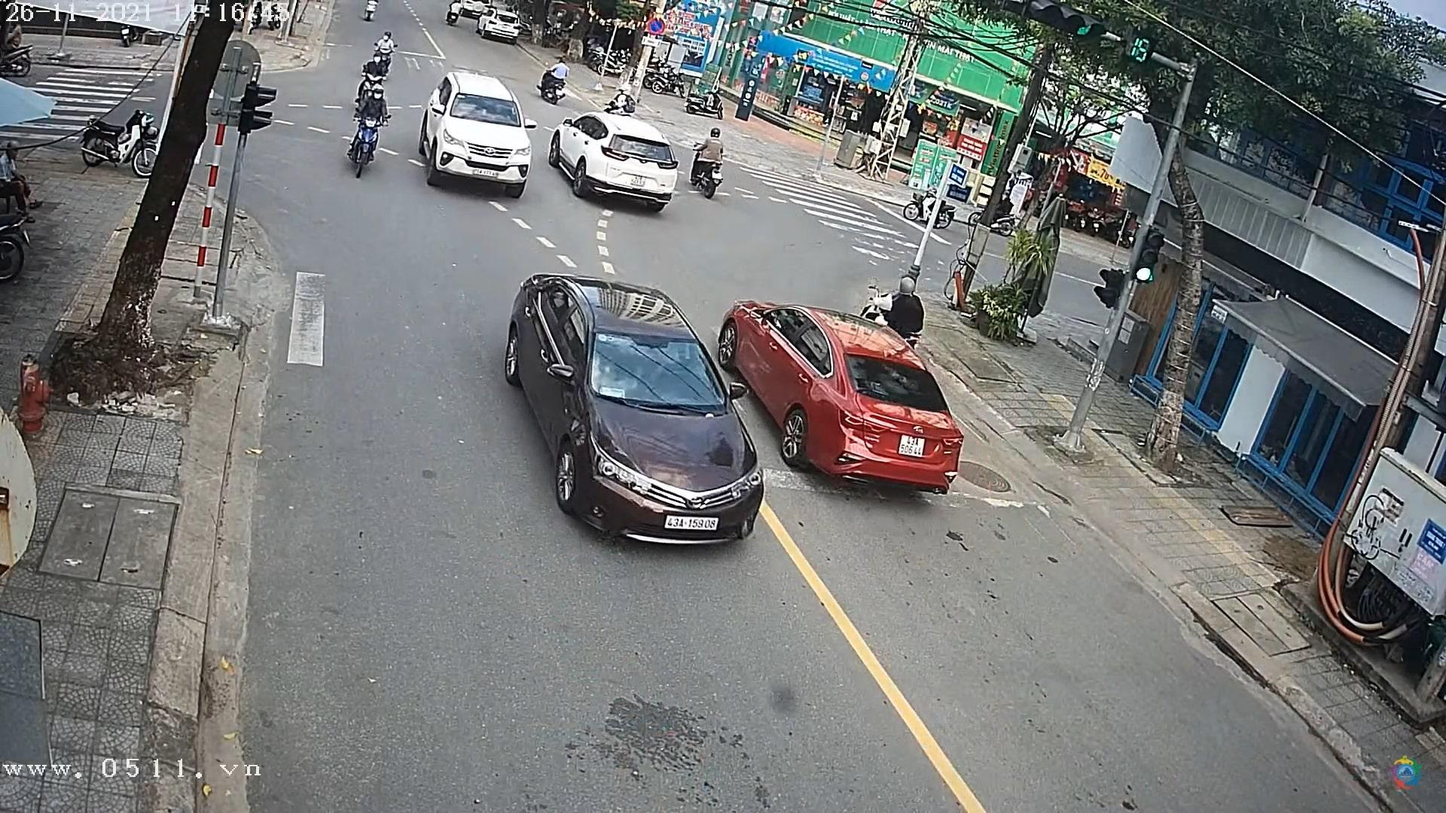car: (501, 269, 764, 543), (719, 301, 971, 496), (551, 112, 684, 215), (423, 74, 534, 192), (445, 2, 494, 27)
motorbike: (688, 137, 729, 199), (349, 106, 382, 183), (539, 66, 566, 103)
